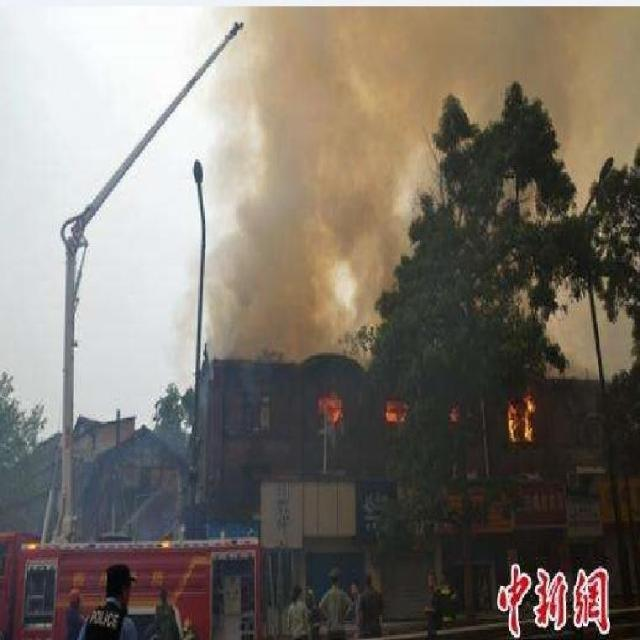Fire: (507, 391, 536, 444), (315, 388, 343, 425), (384, 397, 409, 425), (448, 406, 459, 423)
Smoke: (177, 8, 470, 450), (80, 236, 336, 544), (432, 6, 640, 211), (523, 278, 637, 383)
